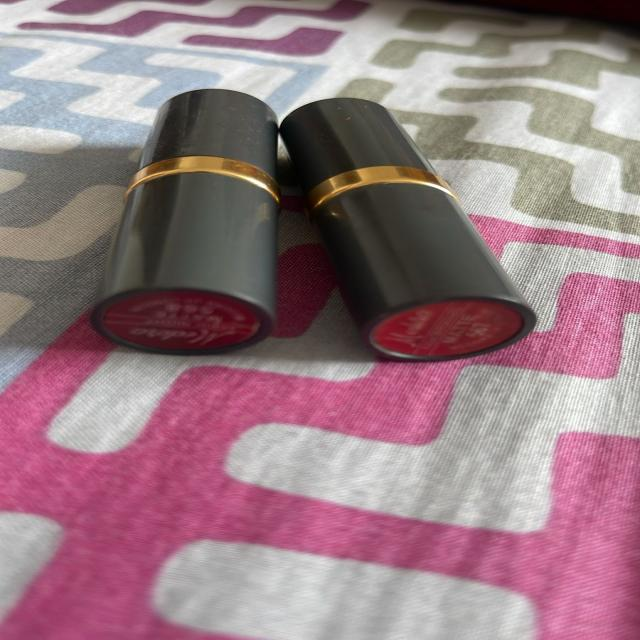lip stick: (272, 79, 564, 368), (72, 81, 285, 371)
